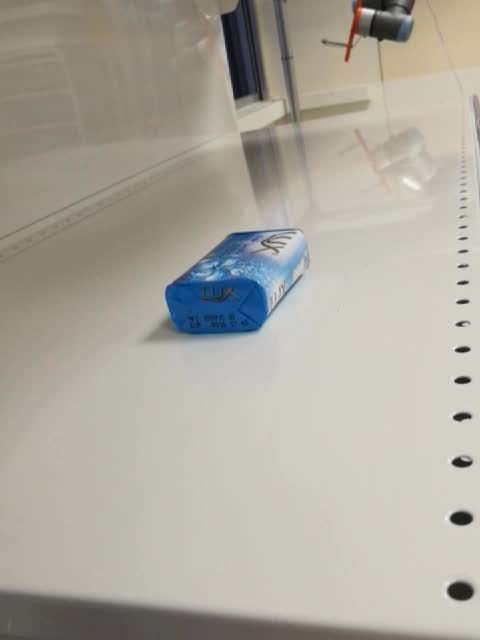soap: (164, 226, 309, 336)
